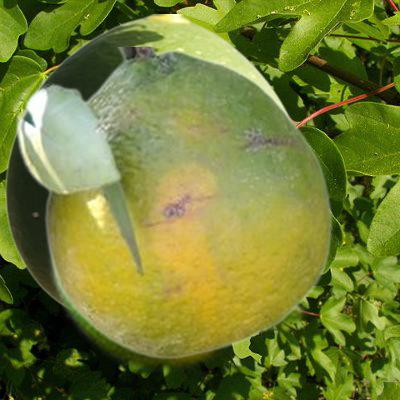dalandan: (14, 47, 332, 358), (4, 14, 290, 303), (46, 248, 308, 370)
